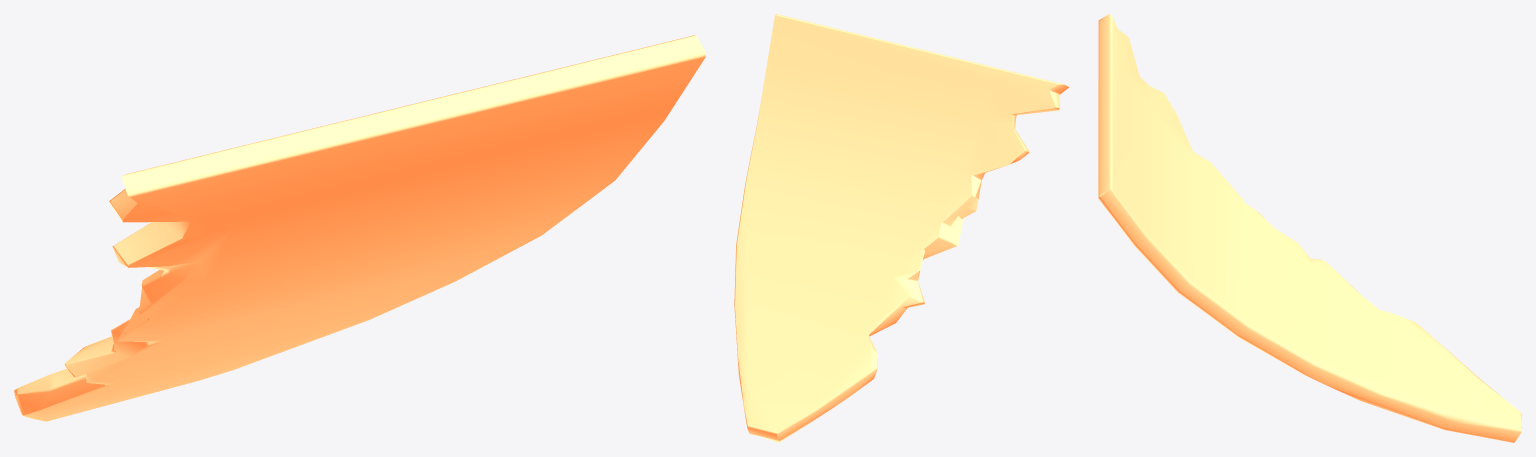
The model's file is SM_HullStern.fbx.
The picture shows the model from 3 angles, left to right: view 1: azimuth 30°, elevation 25°; view 2: azimuth 150°, elevation 25°; view 3: azimuth 270°, elevation 25°; orthographic projection. The views are drawn at different scales.
Parts seen in each view (by area): view 1: SM_HullStern_LOD0; view 2: SM_HullStern_LOD0; view 3: SM_HullStern_LOD0.
Part boxes in pixels (x1,y1,x2,y2): SM_HullStern_LOD0: (14,35,705,421); SM_HullStern_LOD0: (734,14,1069,442); SM_HullStern_LOD0: (1098,14,1521,442).
Size of the model in its own units: 459 by 464 by 411.
